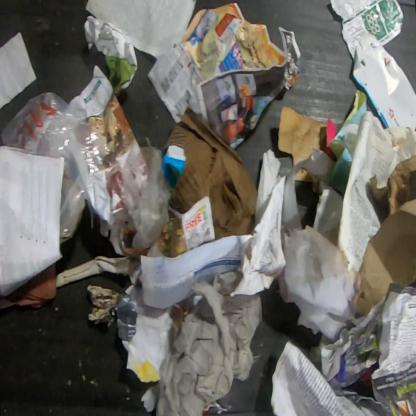cardboard: (161, 113, 258, 240), (349, 199, 415, 317), (276, 106, 336, 167), (370, 153, 416, 226), (294, 167, 319, 193)
soft_plastic: (1, 91, 111, 244), (118, 136, 172, 251), (117, 284, 167, 342)
